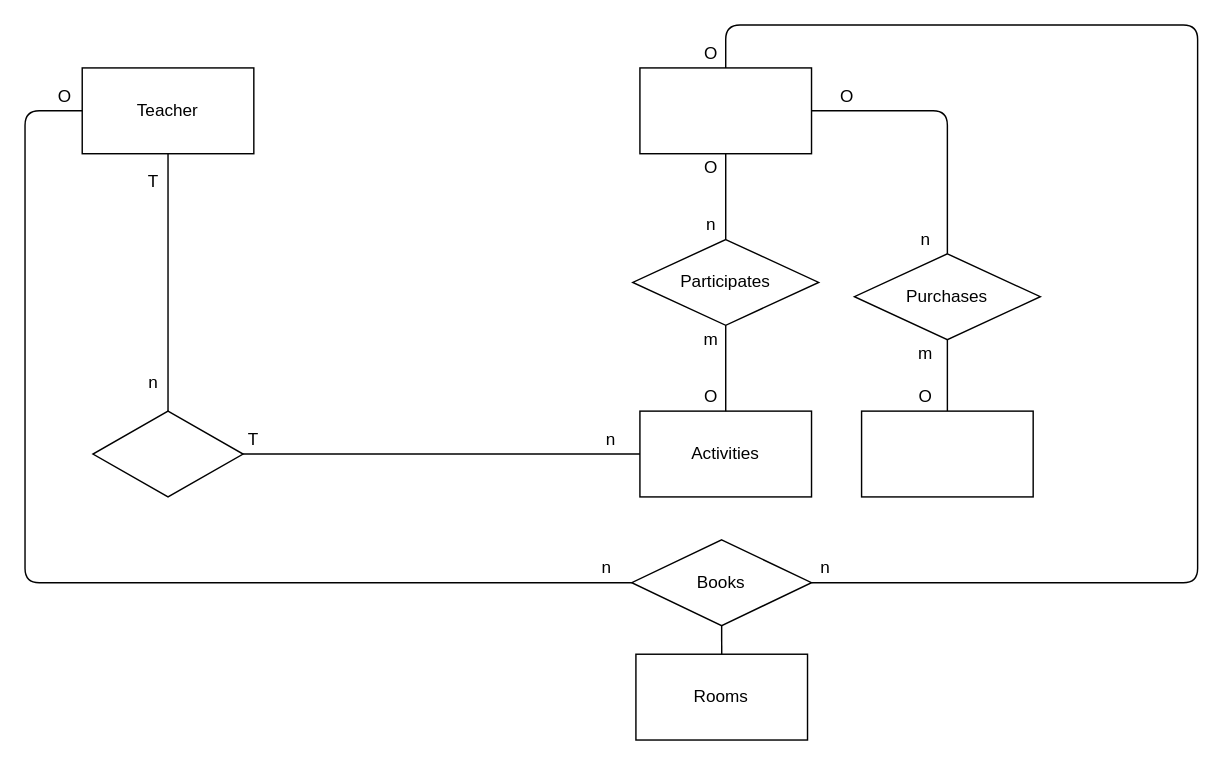
Some shapes in this 1224 by 765 pixel diagram are drawn without their labels. Here are the shapes that lost their labels. From the top down, the box of each, then its label:
(638, 66, 812, 154): Students
(92, 410, 243, 497): Supervises
(860, 410, 1033, 497): Drinks
